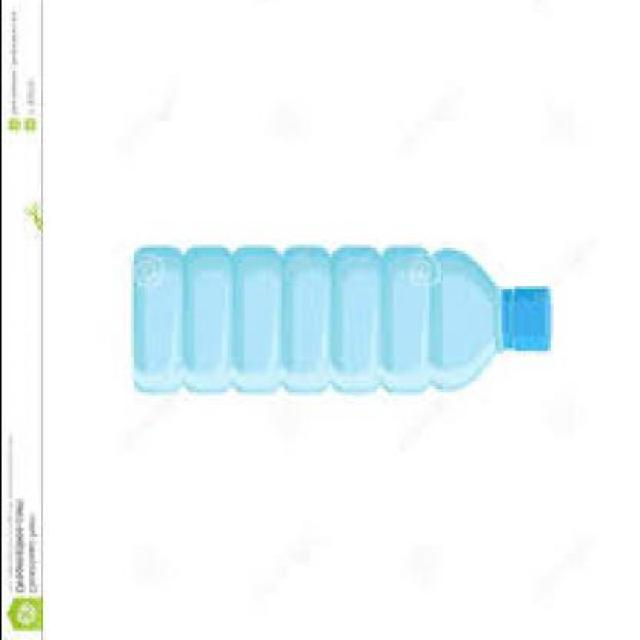PLASTIC: (134, 251, 552, 398)
